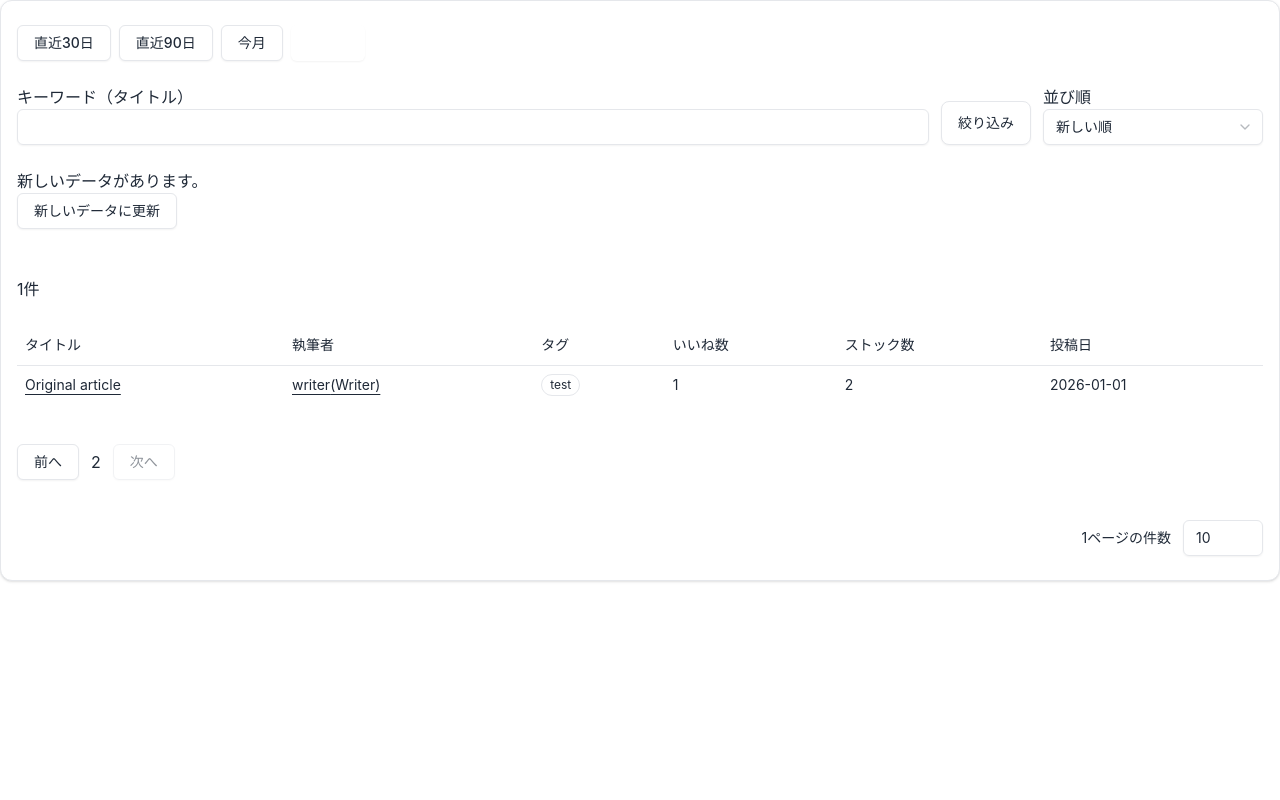
Test: announces a new generation without replacing rows, then updates at offset zero
Click the button "新しいデータに更新" at (97, 211), box x1=17 y1=193 x2=177 y2=229
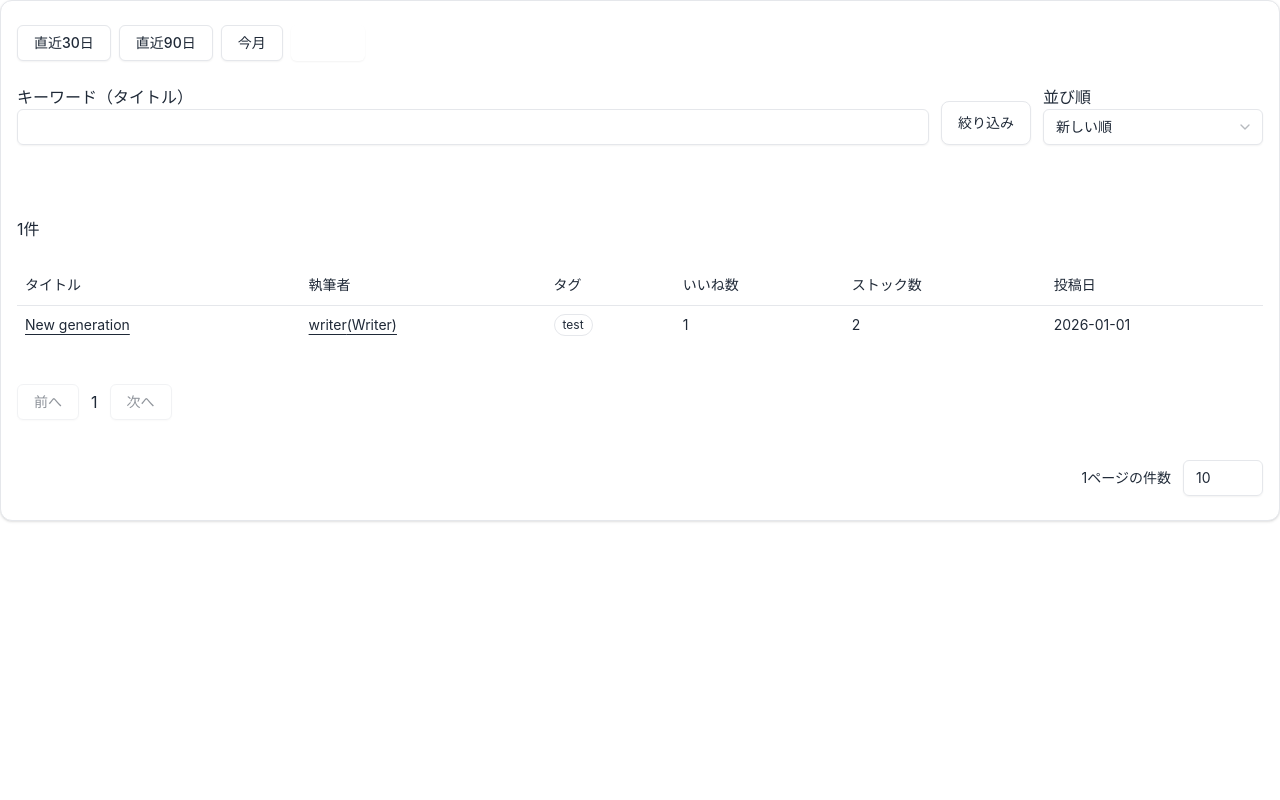
Now the text "New generation" is shown, box x1=25 y1=316 x2=130 y2=332
Now the text "Original article" is gone
